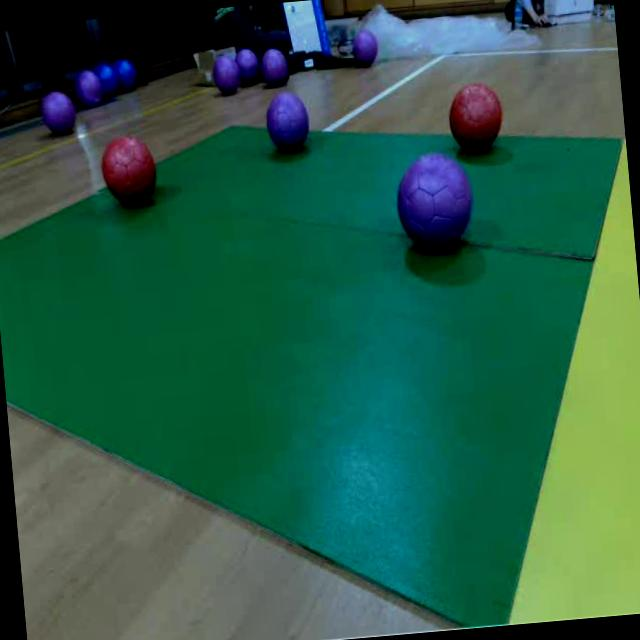blue_ball: (95, 62, 118, 92), (116, 58, 137, 85)
purple_ball: (394, 150, 476, 250), (265, 92, 311, 150), (40, 89, 76, 132), (212, 54, 240, 93), (259, 47, 287, 86), (349, 29, 378, 63), (233, 47, 261, 82), (76, 71, 102, 103)
red_ball: (99, 134, 158, 204), (448, 80, 505, 150)
